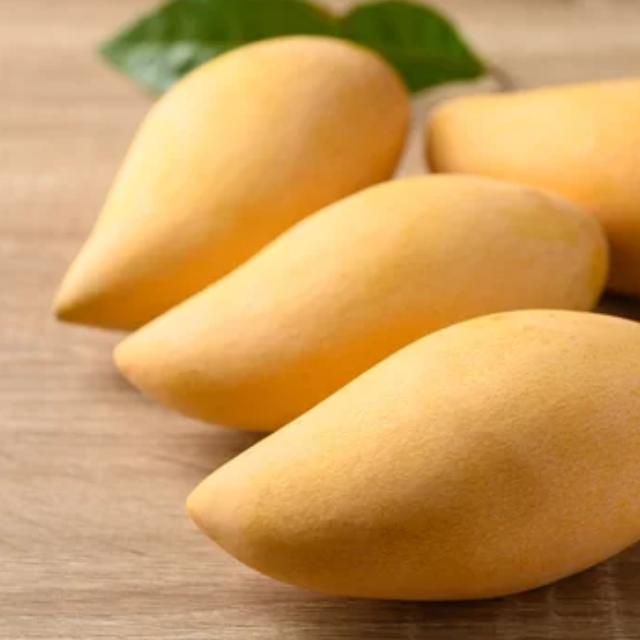mango: (178, 305, 640, 604), (107, 174, 617, 436)
